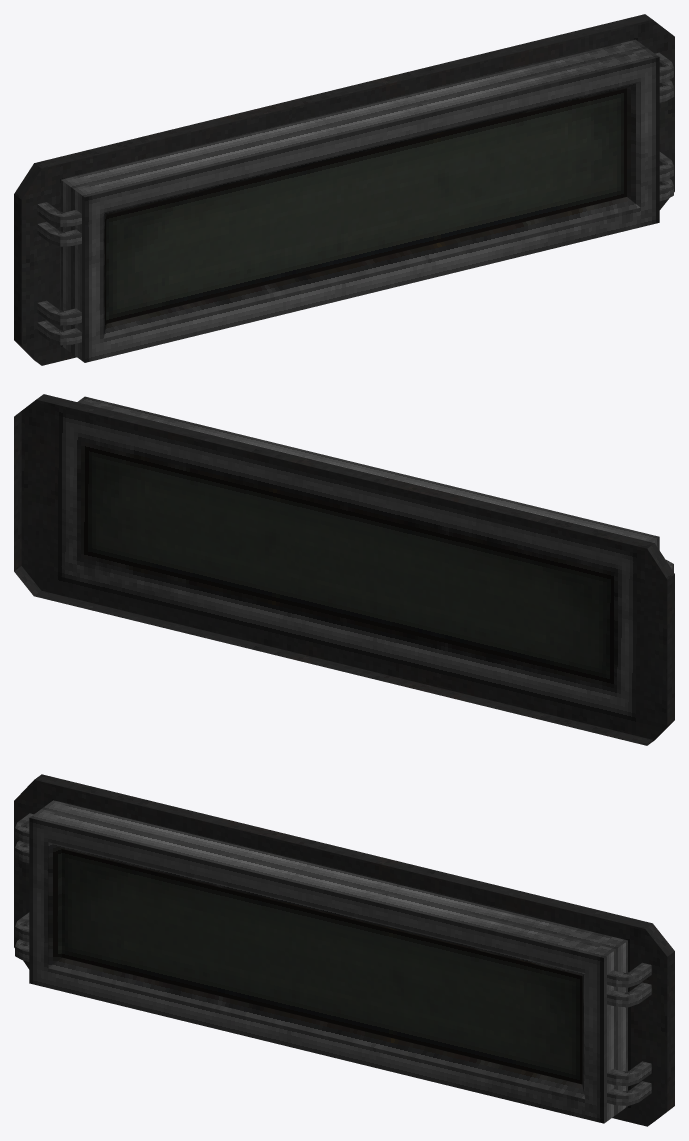
Rendered from elevator_screen_1.glb.
3 views of the same model, one above another, from view 1: azimuth 30°, elevation 25°; view 2: azimuth 150°, elevation 25°; view 3: azimuth 330°, elevation 25° (orthographic).
Parts seen in each view (by area): view 1: elevator_screen_1; view 2: elevator_screen_1; view 3: elevator_screen_1.
Part boxes in pixels (x1=…): elevator_screen_1: x1=14, y1=14, x2=674, y2=365; elevator_screen_1: x1=14, y1=394, x2=674, y2=745; elevator_screen_1: x1=14, y1=774, x2=674, y2=1126.
Bounding box in the file's own units: 0.6935 × 0.2 × 0.058.
1 material, 1 textured.
